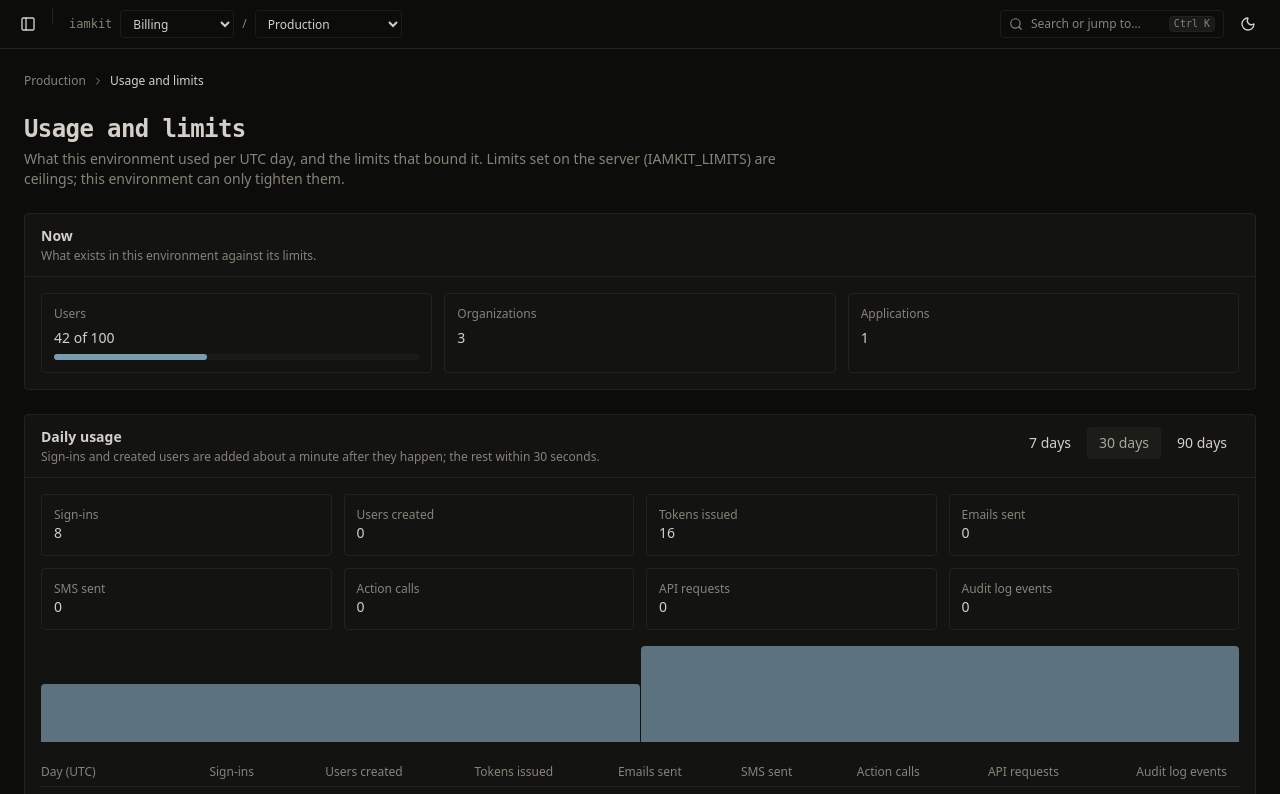
shows usage and tightens limits
Expected: the text "42 of 100" is shown, [54,328,115,347]
Click the button "7 days" at coordinates (1050, 443), box [1017,427,1083,459]
(page scrolled)
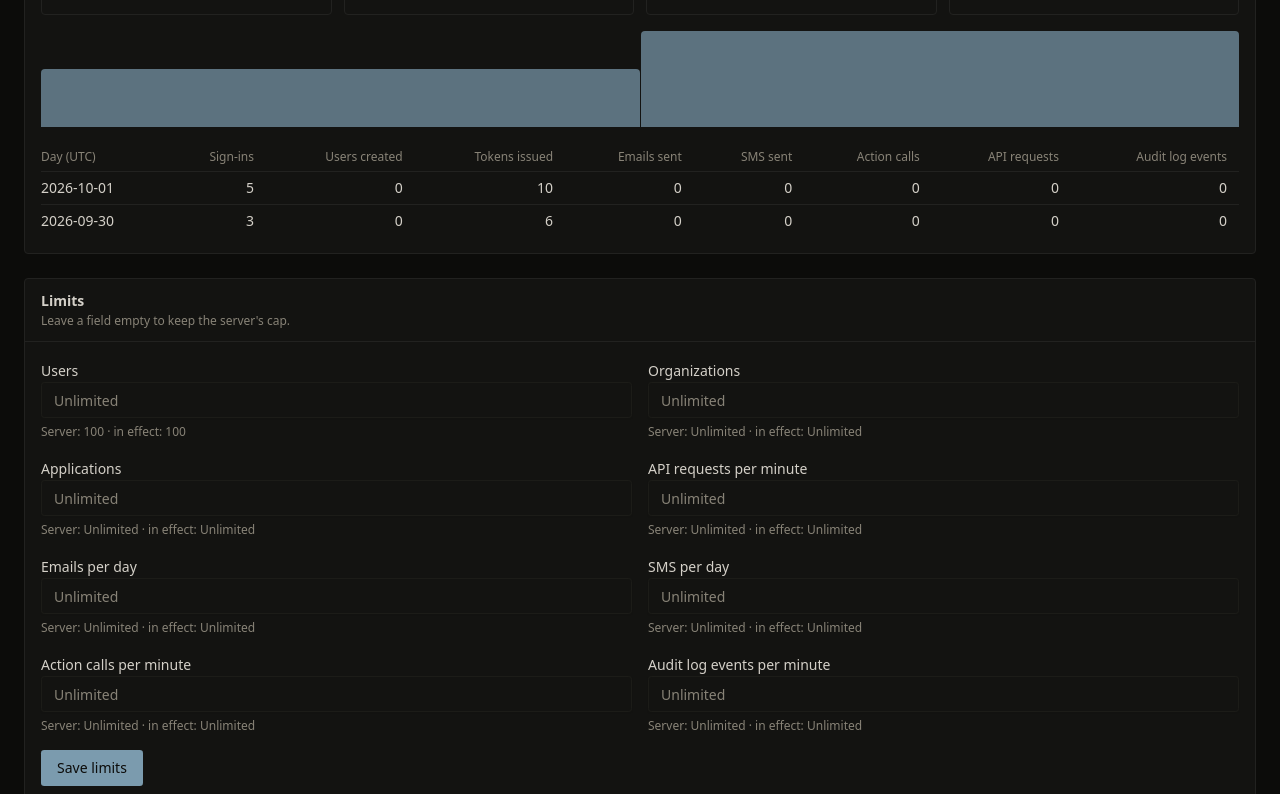
Type "50" into the number field labelled "Users" at coordinates (336, 400), box [41,382,632,418]
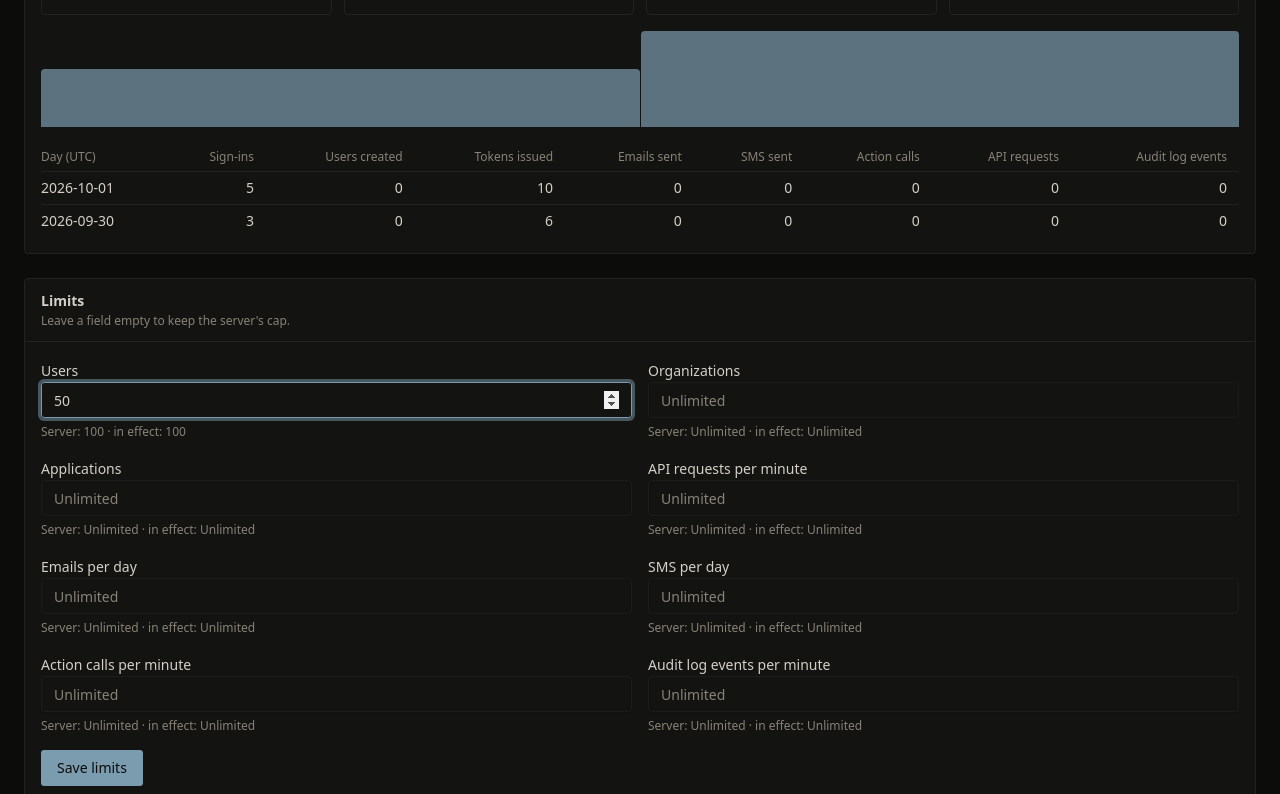
Type "10" into the number field labelled "SMS per day" at coordinates (944, 596), box [648,578,1239,614]
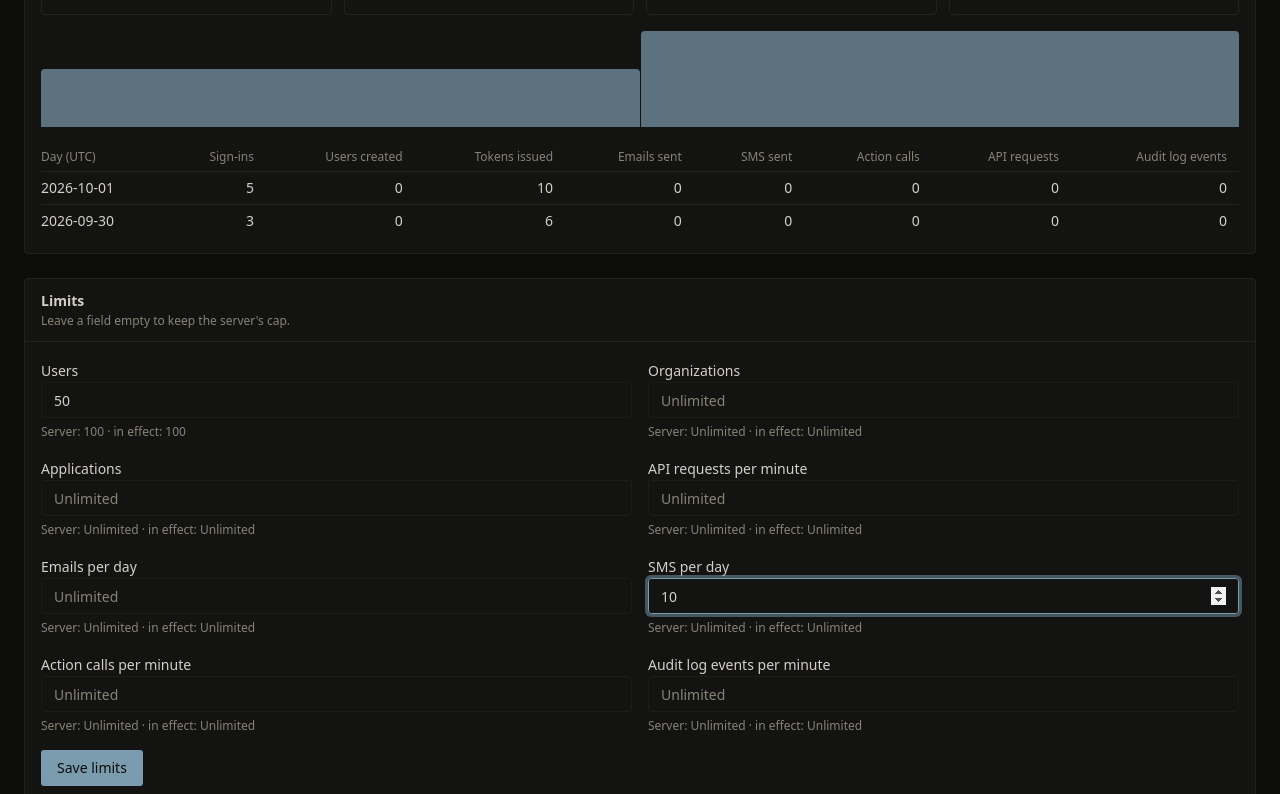
Click the button "Save limits" at coordinates (92, 768), box [41,750,143,786]
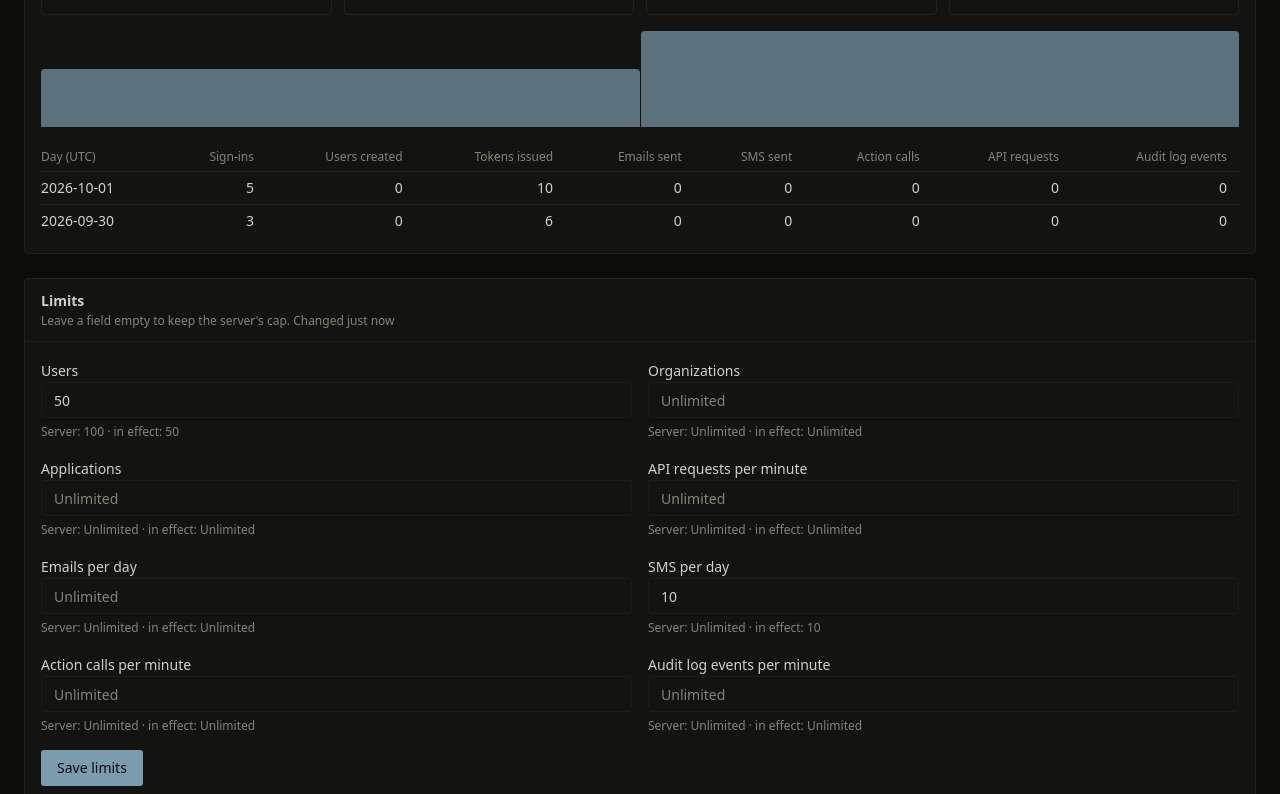
Now the text "Server: 100 · in effect: 50" is shown, box [41,423,179,440]
